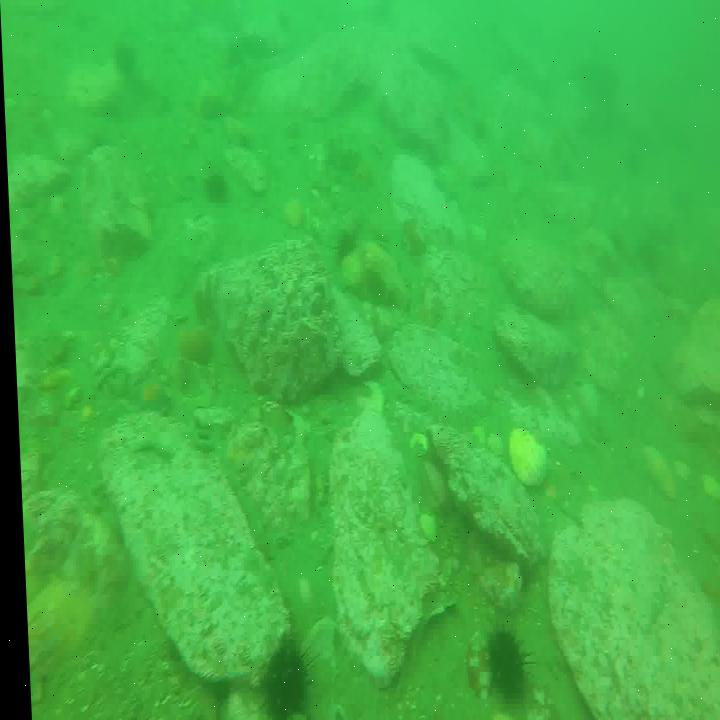echinus: (254, 642, 301, 720), (481, 622, 521, 702)
starfish: (131, 372, 165, 415)
